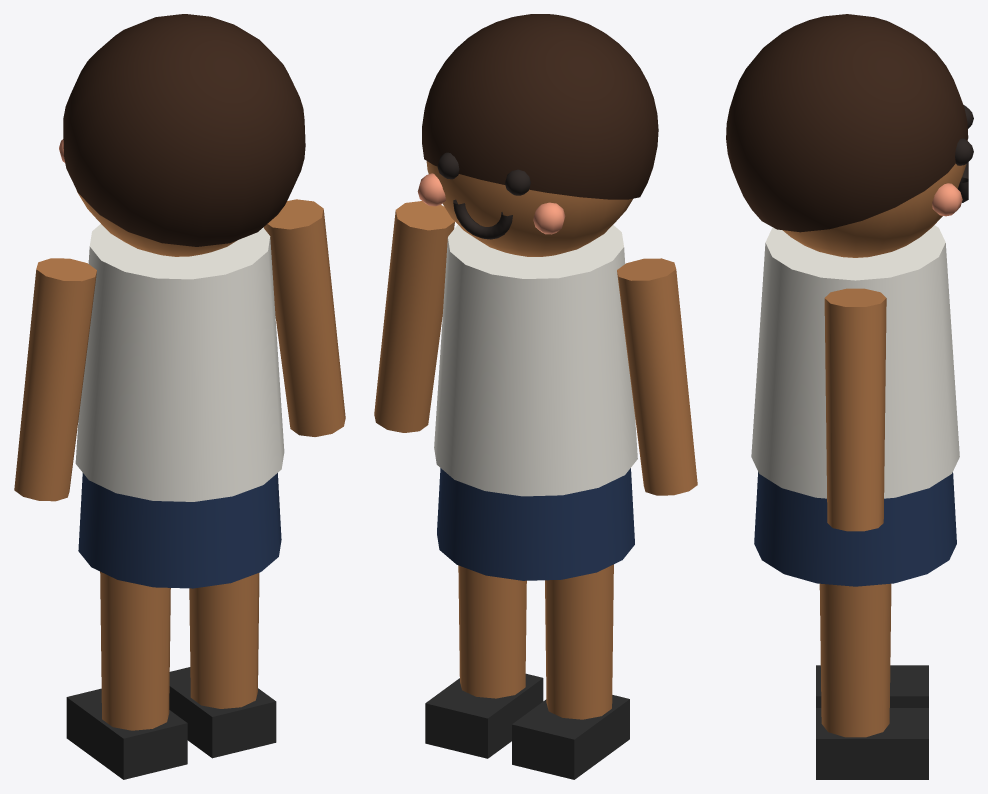
The model's file is visitor_3.fbx.
3 renders of one model, left to right at view 1: azimuth 30°, elevation 25°; view 2: azimuth 150°, elevation 25°; view 3: azimuth 270°, elevation 25°, orthographic. The views are drawn at different scales.
Visible parts, largest first — view 1: M__visitor_3-body, M__visitor_3-armL, M__visitor_3-armR, M__visitor_3-shinL, M__visitor_3-shinR, M__visitor_3-legL, M__visitor_3-legR; view 2: M__visitor_3-body, M__visitor_3-armL, M__visitor_3-armR, M__visitor_3-shinL, M__visitor_3-shinR, M__visitor_3-legL, M__visitor_3-legR; view 3: M__visitor_3-body, M__visitor_3-armR, M__visitor_3-shinR, M__visitor_3-legR, M__visitor_3-shinL.
Boxes of the visible parts, box(x1,y1,x2,y2) form: M__visitor_3-body: box(59, 14, 305, 588); M__visitor_3-armL: box(14, 258, 96, 501); M__visitor_3-armR: box(263, 199, 345, 436); M__visitor_3-shinL: box(66, 621, 187, 779); M__visitor_3-shinR: box(169, 600, 276, 758); M__visitor_3-legL: box(100, 571, 170, 638); M__visitor_3-legR: box(189, 573, 259, 616); M__visitor_3-body: box(417, 14, 658, 580); M__visitor_3-armL: box(617, 258, 697, 495); M__visitor_3-armR: box(374, 201, 454, 432); M__visitor_3-shinL: box(512, 613, 629, 779); M__visitor_3-shinR: box(425, 591, 543, 758); M__visitor_3-legL: box(545, 564, 613, 629); M__visitor_3-legR: box(458, 565, 526, 608); M__visitor_3-body: box(726, 14, 973, 586); M__visitor_3-armR: box(824, 288, 886, 531); M__visitor_3-shinR: box(816, 632, 928, 779); M__visitor_3-legR: box(819, 583, 891, 645); M__visitor_3-shinL: box(816, 665, 928, 707).
Bounding box in the file's own units: 0.6547 × 1.4 × 0.4399.
